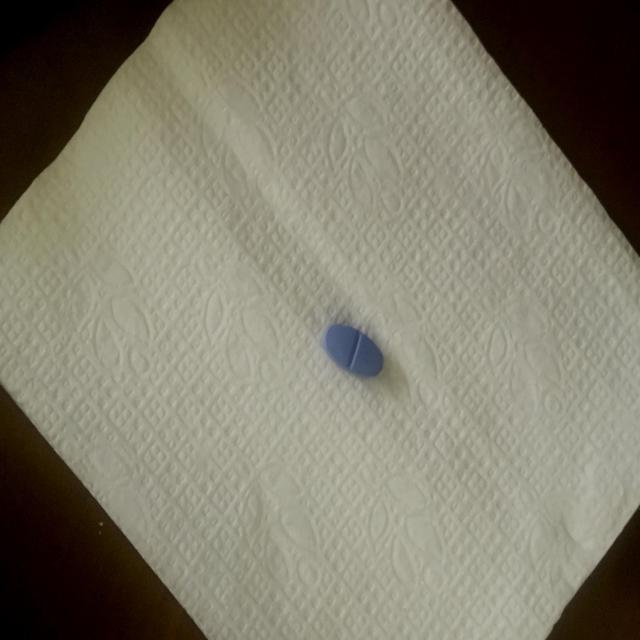pill: (323, 320, 383, 378)
